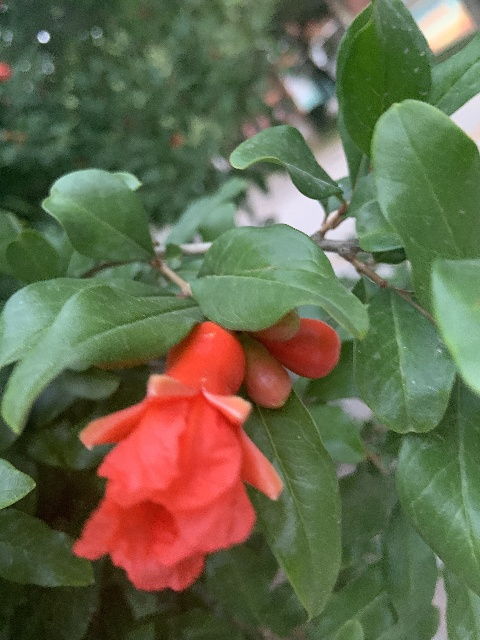bud: (267, 317, 339, 377), (243, 339, 290, 410), (250, 308, 300, 341)
flower: (74, 319, 284, 593)
